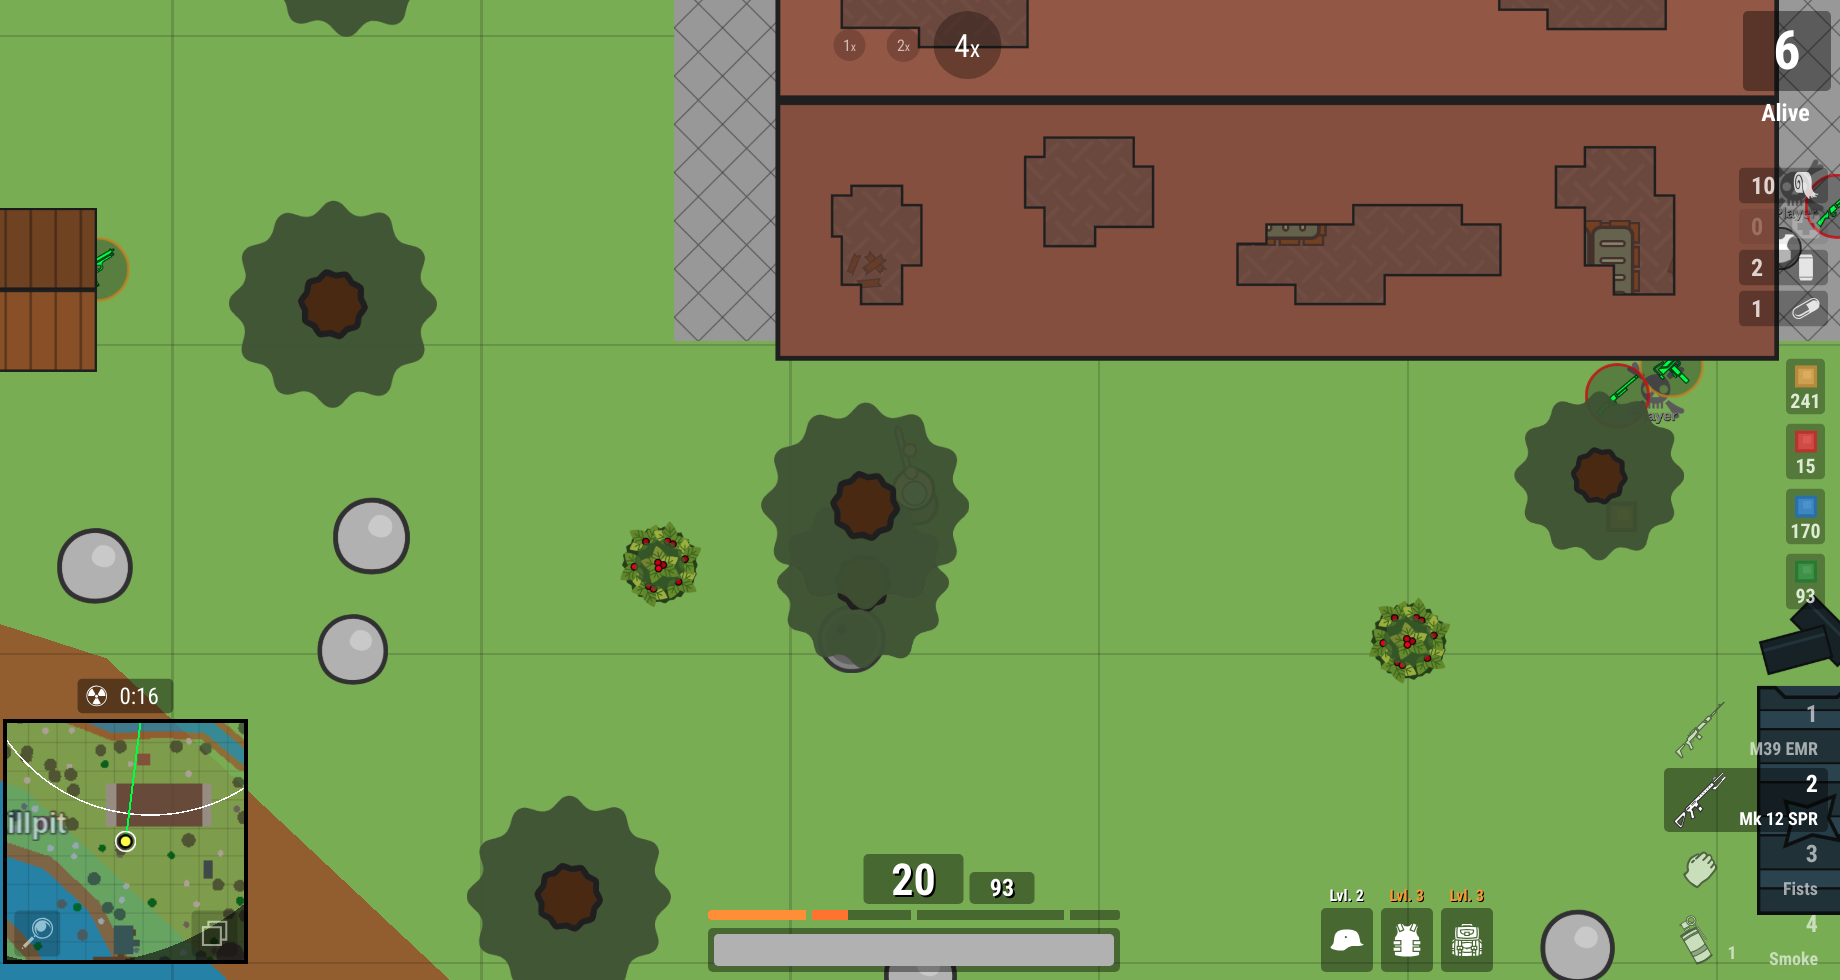Player: (863, 408, 955, 535)
